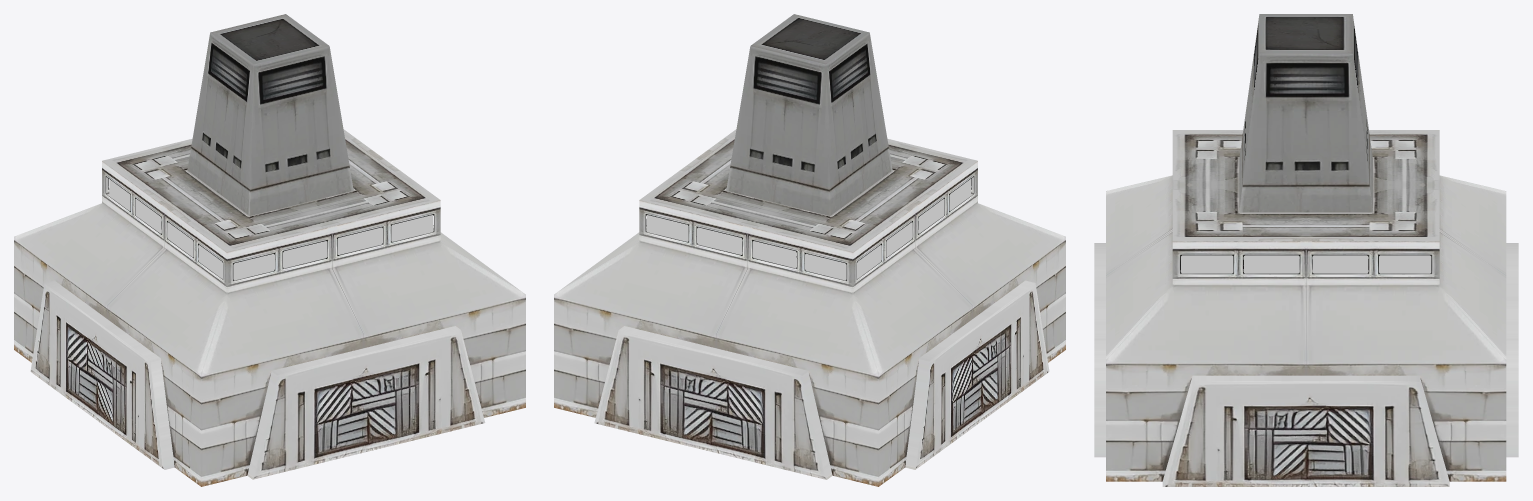
The model's file is hub_hdtex.glb.
3 renders of one model, left to right at view 1: azimuth 30°, elevation 25°; view 2: azimuth 150°, elevation 25°; view 3: azimuth 270°, elevation 25°, orthographic. The views are drawn at different scales.
Parts seen in each view (by area): view 1: Hub, LitWin_Hub; view 2: Hub, LitWin_Hub; view 3: Hub, LitWin_Hub.
Part boxes in pixels (x1,y1,x2,y2): Hub: (14, 14, 525, 486); LitWin_Hub: (109, 179, 433, 280); Hub: (554, 14, 1065, 486); LitWin_Hub: (646, 179, 970, 280); Hub: (1094, 14, 1518, 486); LitWin_Hub: (1181, 255, 1431, 273).
Size of the model in its own units: 25.53 by 24 by 25.44.
Materials: 1 (1 with a texture image).
